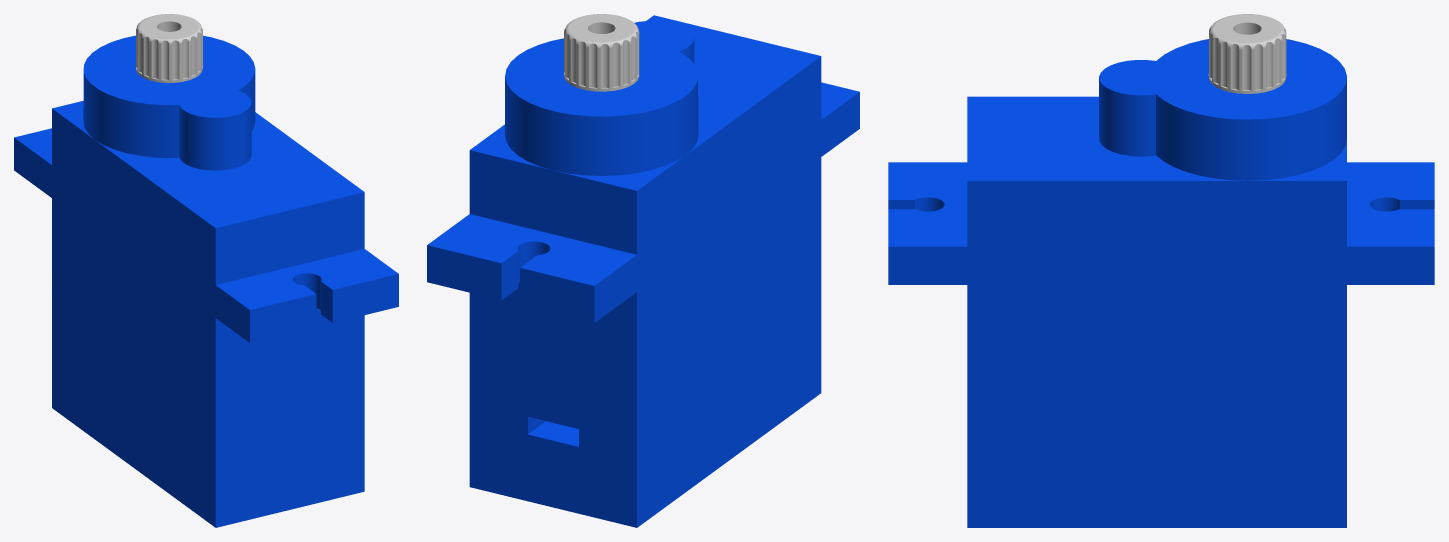
Rendered from sg90_servo.glb.
3 views of the same model, side by side, from view 1: azimuth 30°, elevation 25°; view 2: azimuth 150°, elevation 25°; view 3: azimuth 270°, elevation 25° (orthographic). The views are drawn at different scales.
Visible parts, largest first — view 1: =>[0:1:1:2]_a77df7, =>[0:1:1:2]_4a1cf3; view 2: =>[0:1:1:2]_a77df7, =>[0:1:1:2]_4a1cf3; view 3: =>[0:1:1:2]_a77df7, =>[0:1:1:2]_4a1cf3.
Part boxes in pixels (x1,y1,x2,y2): =>[0:1:1:2]_a77df7: [14, 35, 398, 527]; =>[0:1:1:2]_4a1cf3: [136, 14, 202, 82]; =>[0:1:1:2]_a77df7: [427, 15, 859, 527]; =>[0:1:1:2]_4a1cf3: [564, 14, 639, 91]; =>[0:1:1:2]_a77df7: [888, 39, 1434, 527]; =>[0:1:1:2]_4a1cf3: [1208, 14, 1286, 93].
Size of the model in its own units: 11.8 by 29.9 by 32.4.
